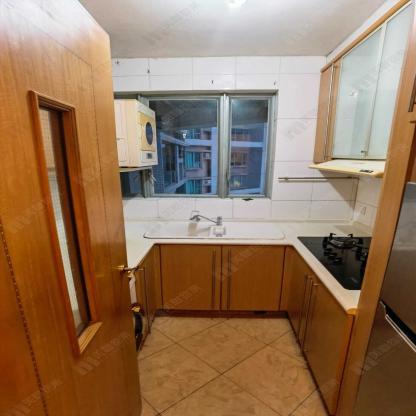Cupboard: (158, 244, 355, 414), (313, 2, 413, 162)
Exhaust Hood: (305, 159, 386, 179)
Sink: (142, 220, 285, 241)
Stove: (299, 231, 373, 291)
